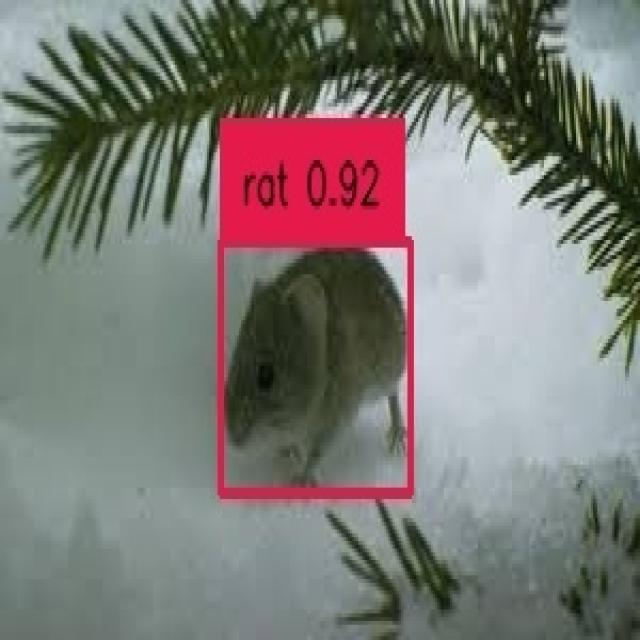rat: (218, 236, 408, 488)
